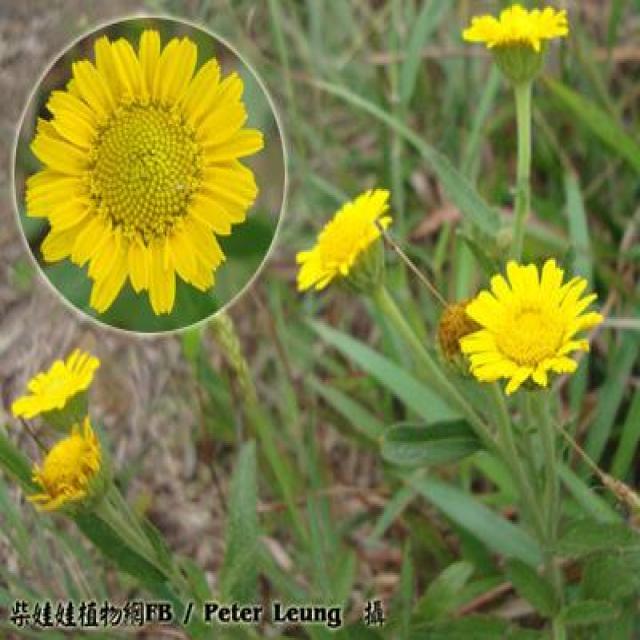organic waste: (22, 25, 268, 306), (452, 255, 604, 389), (290, 178, 396, 298), (460, 6, 574, 94), (22, 432, 116, 525), (10, 346, 101, 414)
